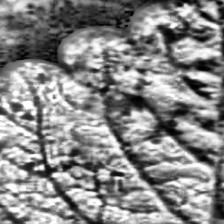Angular Leafspot: (57, 0, 224, 173)
